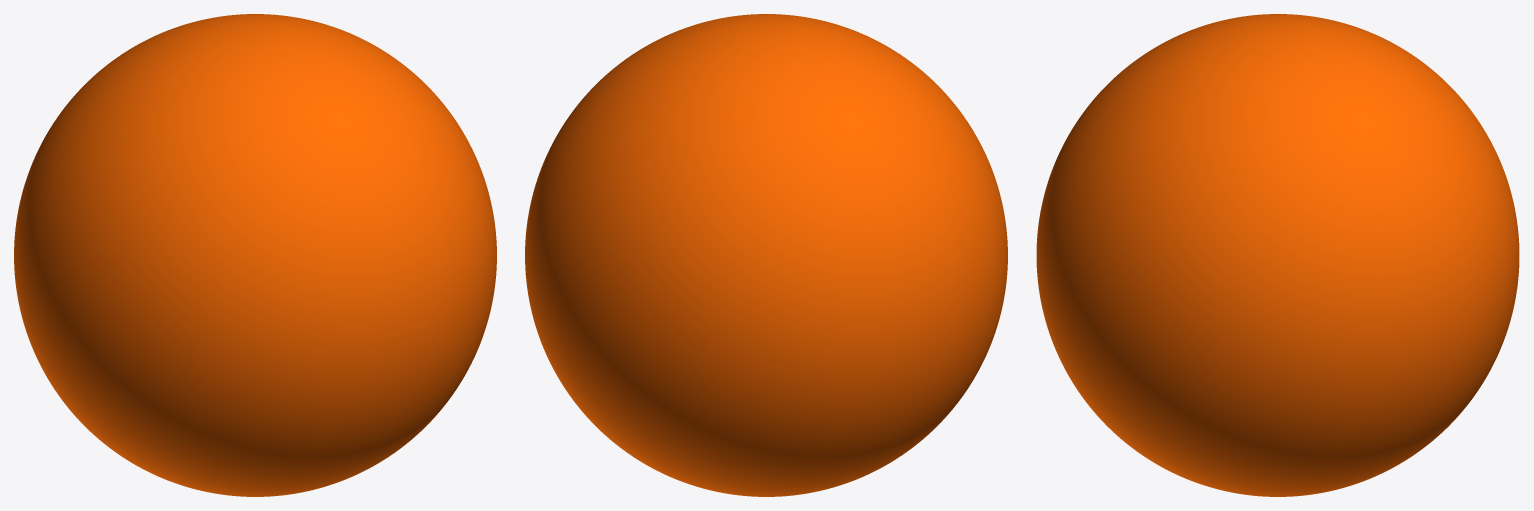
File: sunny.gltf
3 views of the same model, side by side, from view 1: azimuth 30°, elevation 25°; view 2: azimuth 150°, elevation 25°; view 3: azimuth 270°, elevation 25° (orthographic).
Visible parts, largest first — view 1: Object_2.003; view 2: Object_2.003; view 3: Object_2.003.
Boxes of the visible parts, x1,y1,x2,y2 form: Object_2.003: (14, 14, 496, 496); Object_2.003: (525, 14, 1007, 496); Object_2.003: (1036, 14, 1519, 496).
Bounding box in the file's own units: 0.4278 × 0.4278 × 0.4278.
